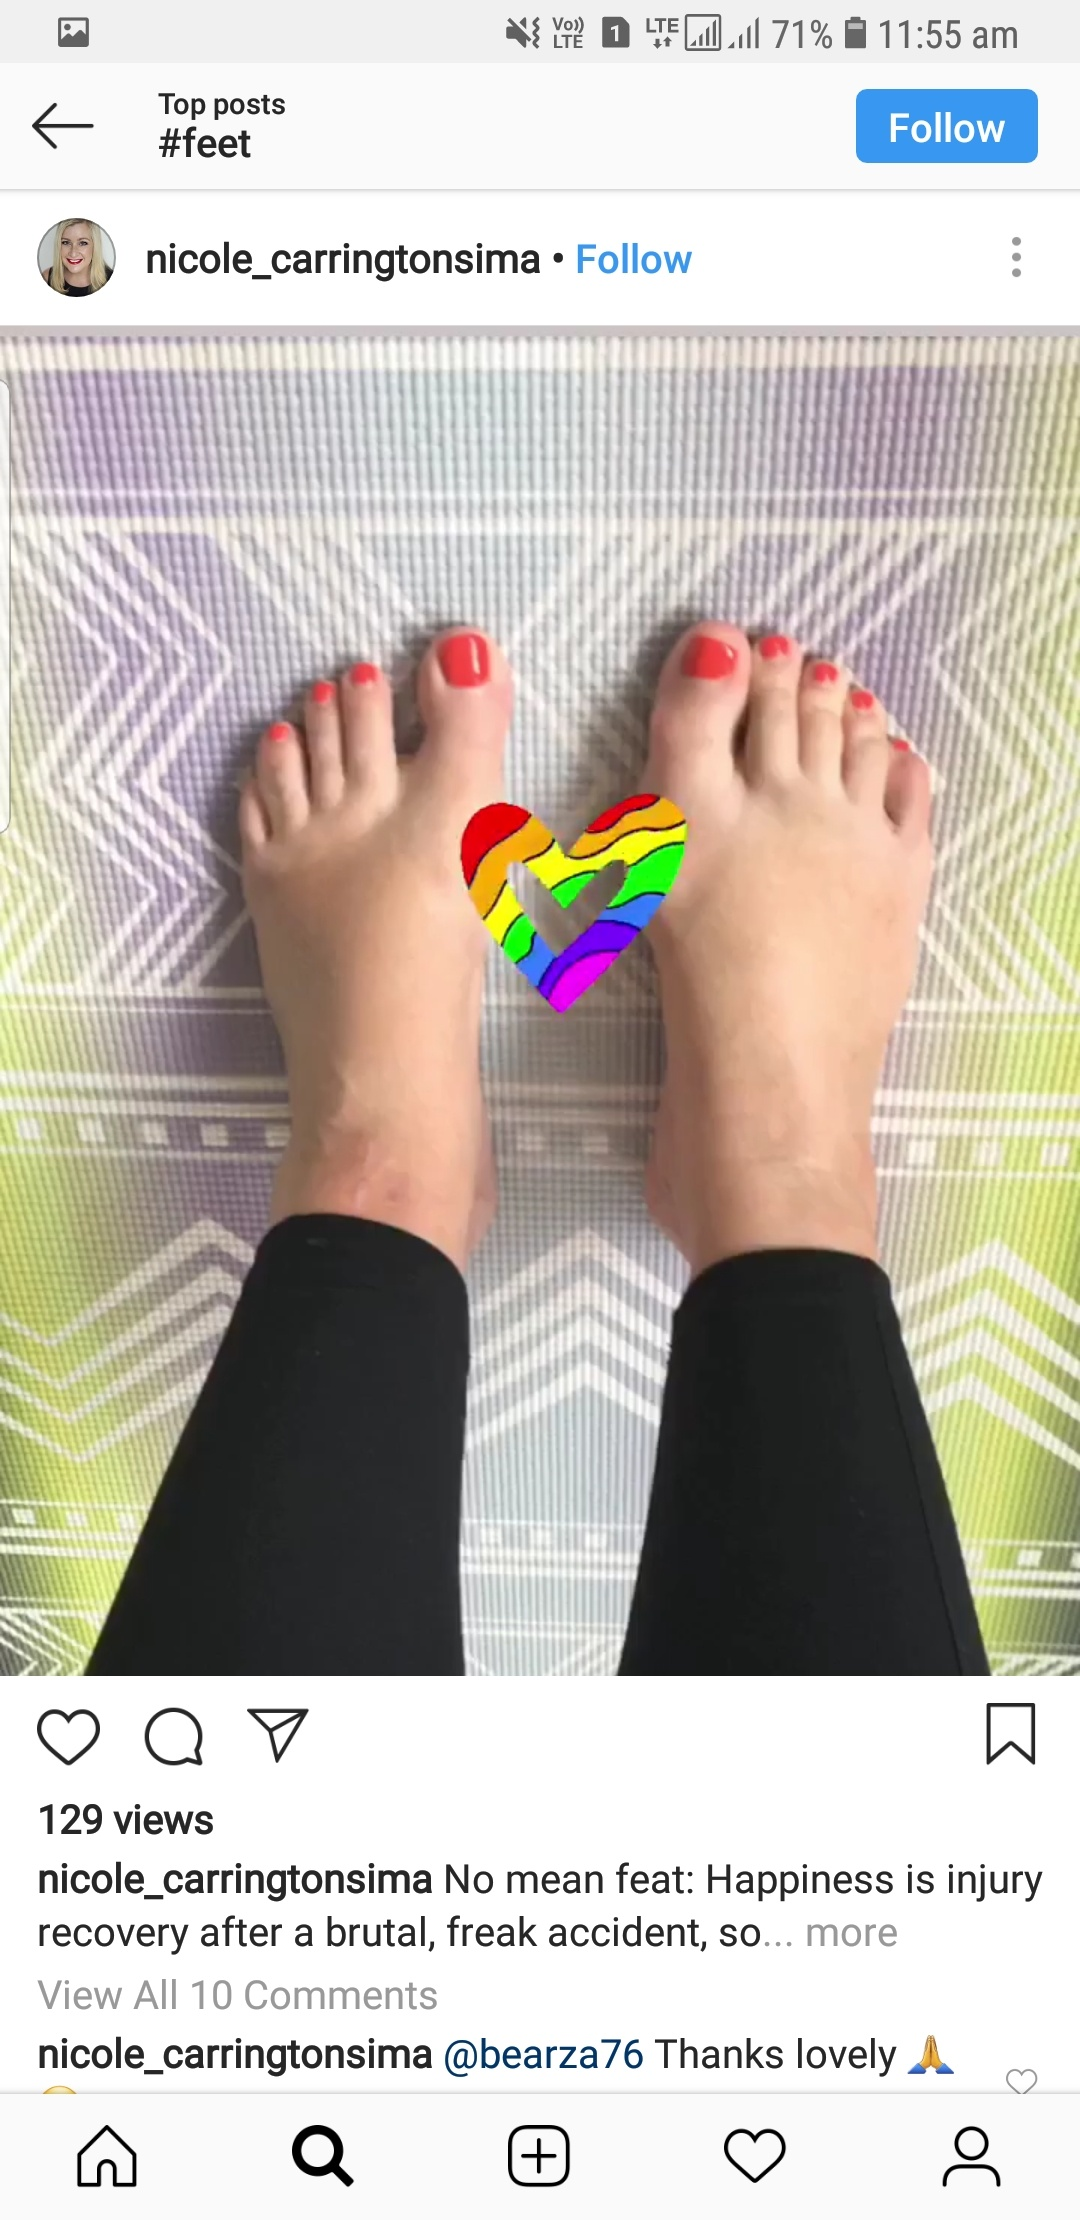feet: (108, 583, 551, 1287), (604, 572, 941, 1257)
